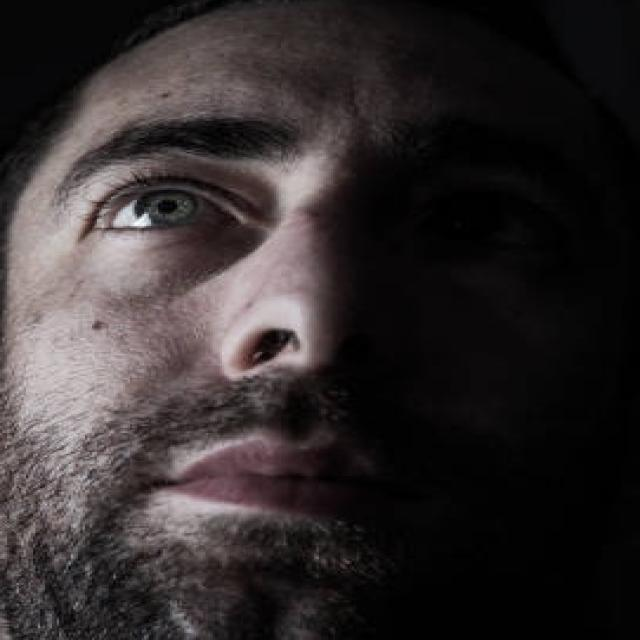Anxiety: (2, 3, 640, 638)
